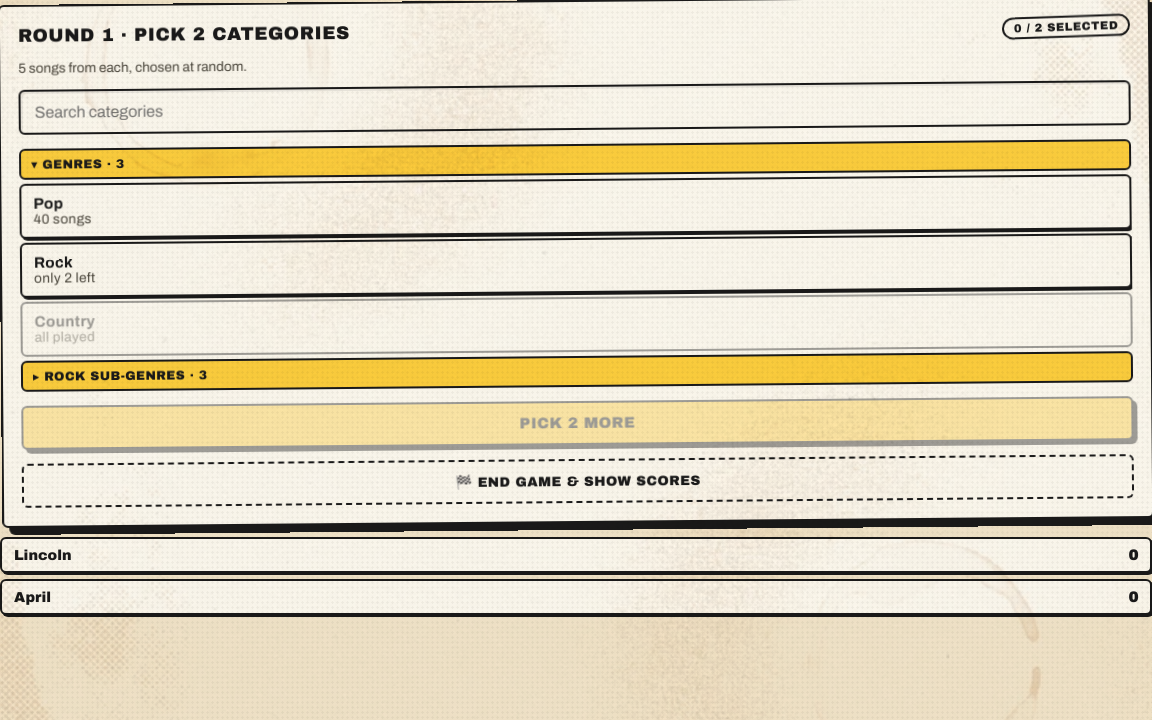
Test: RoundSetupScreen › filters categories across every group by the search box
The image size is (1152, 720).
In the field with placeholder "Search categories": (575, 108) [18,80,1131,135], type "grunge"
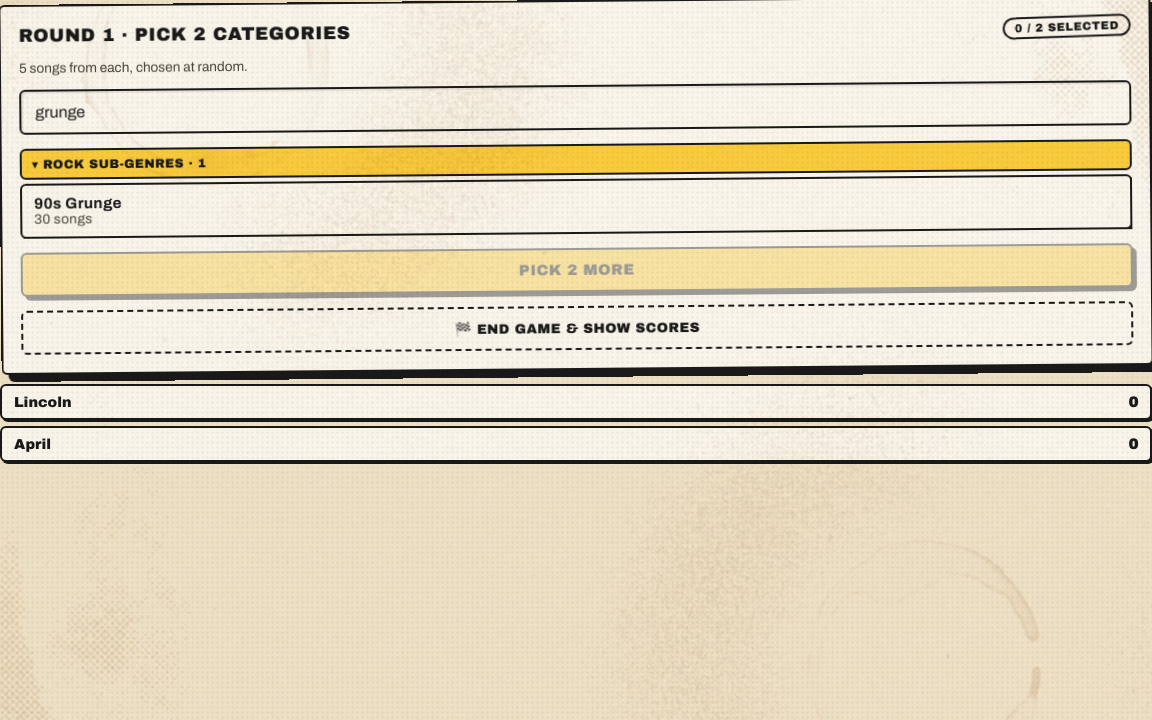
Result: the button "90s Grunge 30 songs" is shown at [20,174,1132,239]
Result: the button "Pop" is gone
